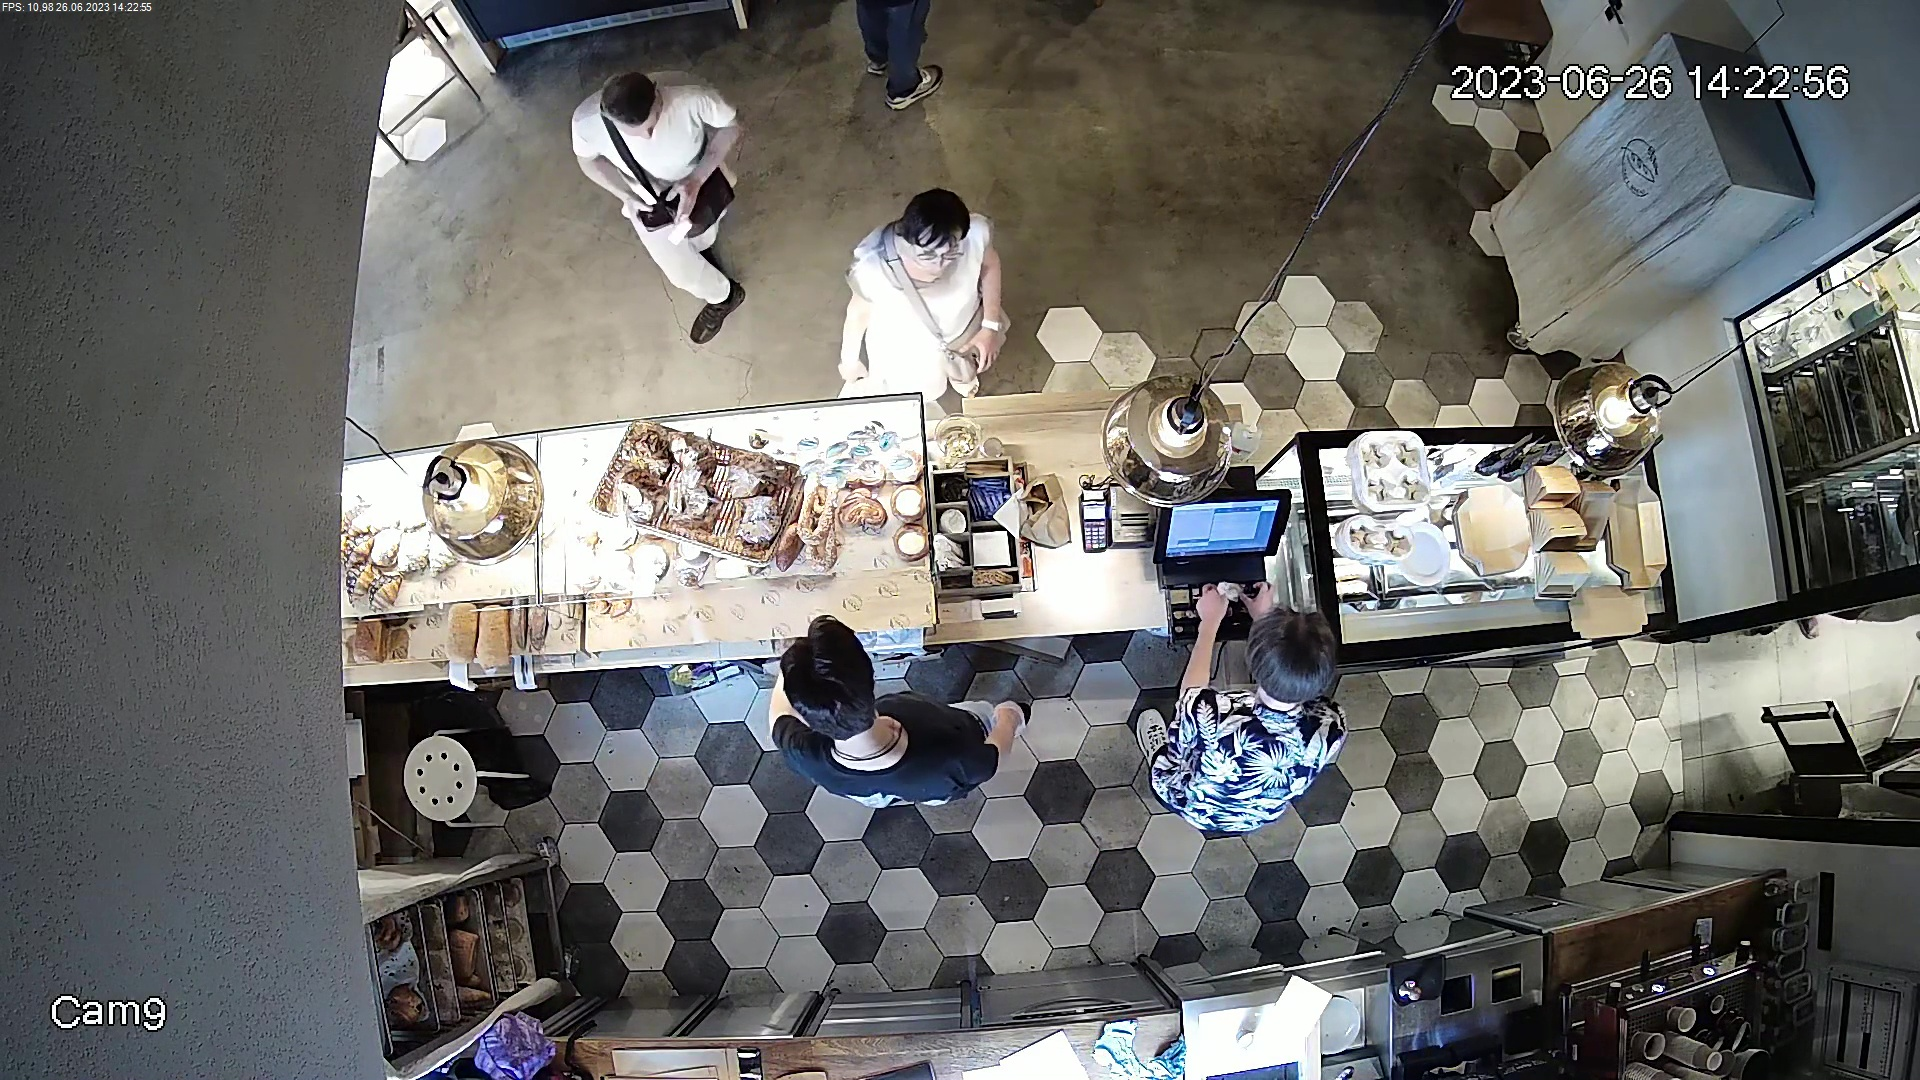barcounter: (339, 419, 1643, 659)
openedcash: (1156, 491, 1288, 649)
pack: (993, 472, 1073, 552)
person: (559, 58, 781, 353)
